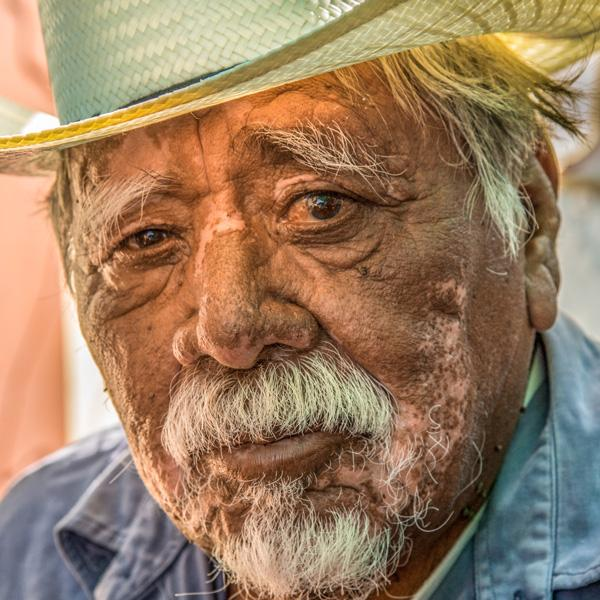Eyes: (271, 172, 375, 248), (92, 205, 196, 279)
